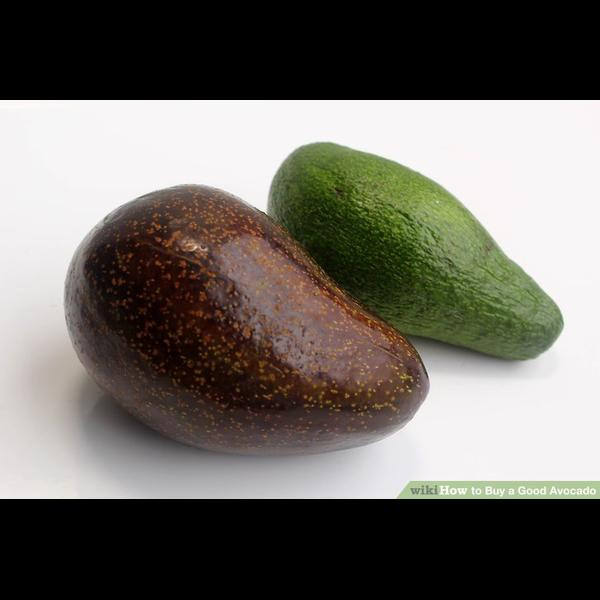ripe: (63, 184, 430, 456)
unripe: (267, 142, 564, 362)
